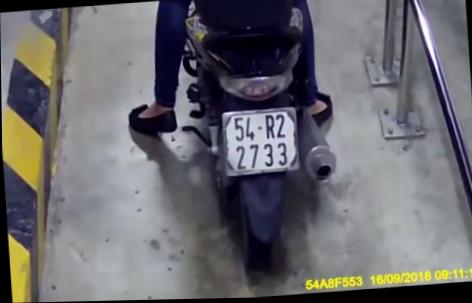LP: (221, 107, 300, 176)
